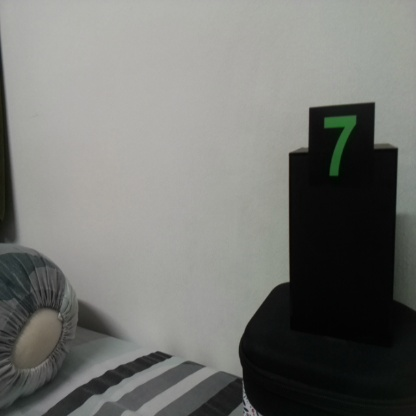id_7: (311, 105, 374, 204)
